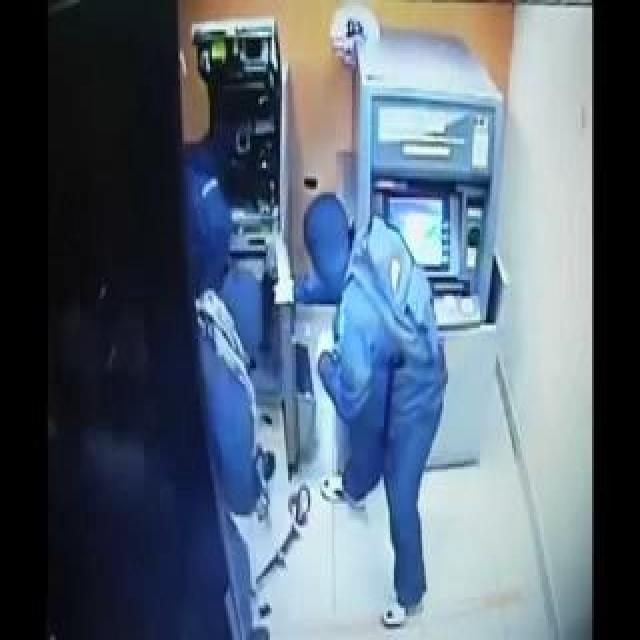thief: (174, 127, 380, 376)
